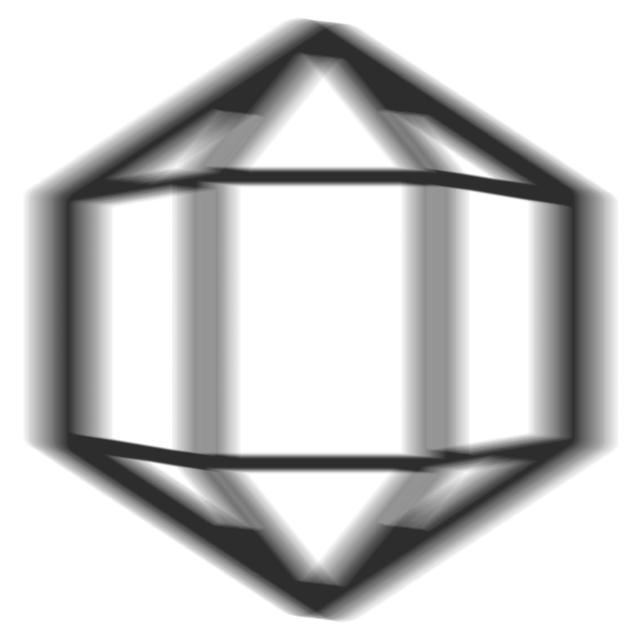crystal: (8, 7, 638, 633)
